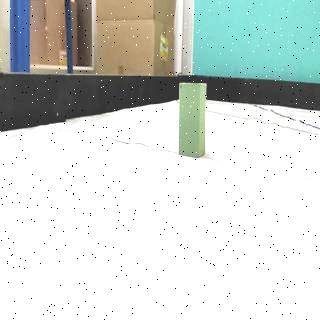greenbox: (178, 81, 206, 158)
